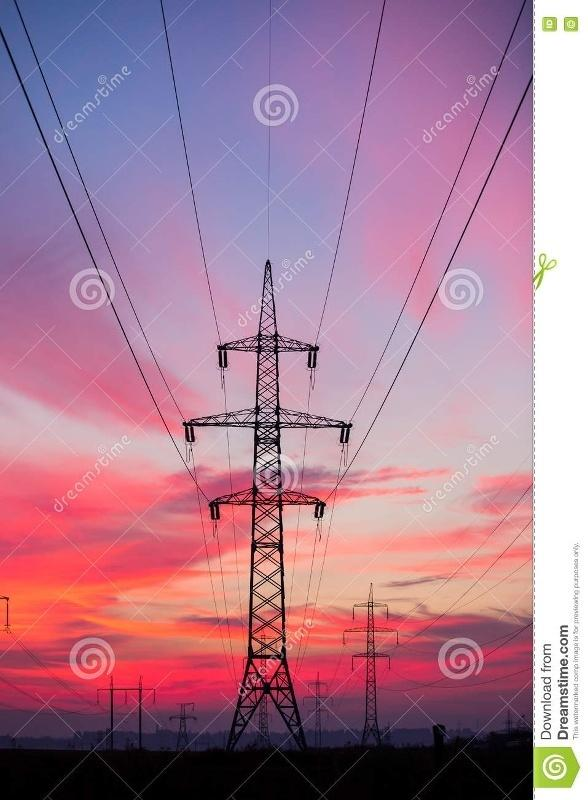power_tower: (177, 272, 358, 750), (336, 580, 407, 753)
